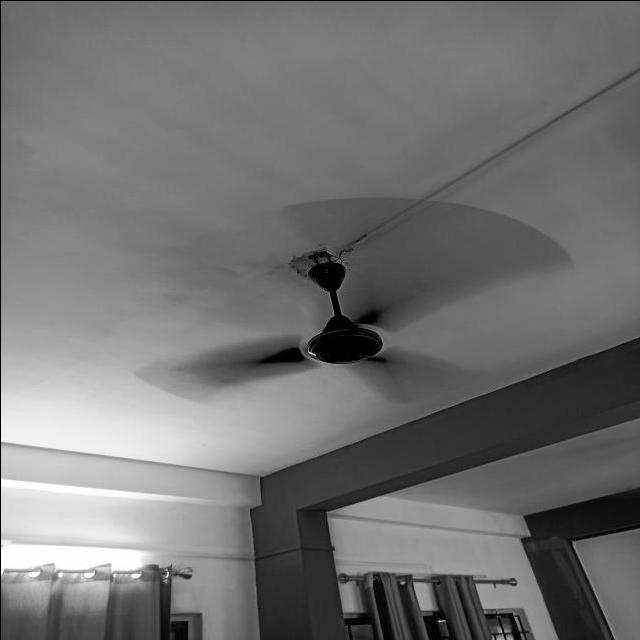fan: (133, 194, 573, 404)
